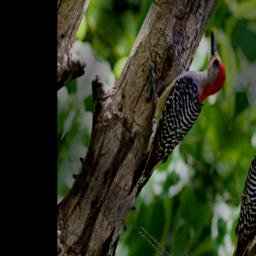Woodpecker: (97, 0, 243, 232)
